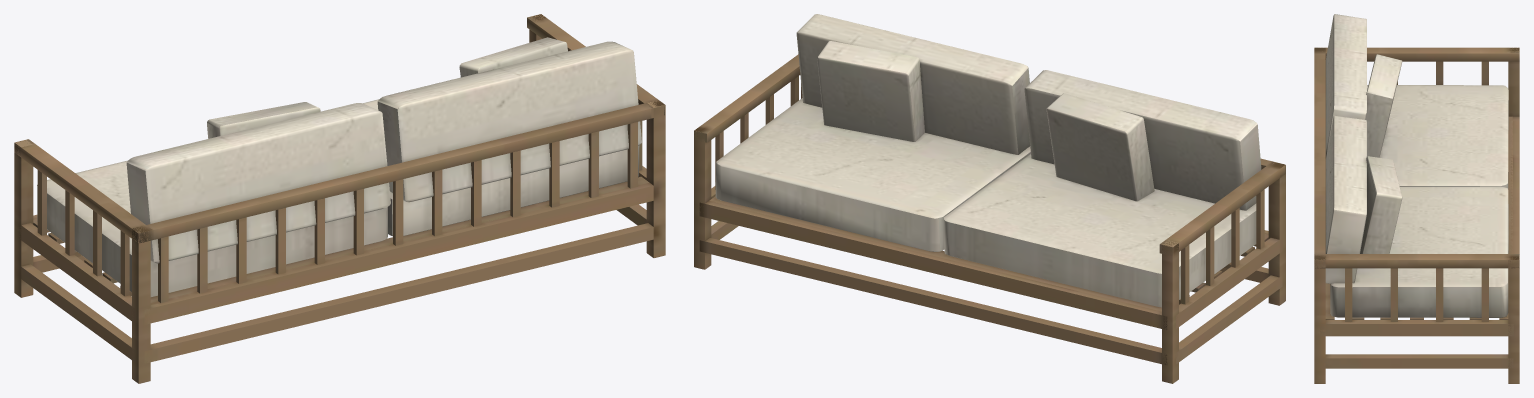
Rendered from lounge_sofa.glb.
3 views of the same model, side by side, from view 1: azimuth 30°, elevation 25°; view 2: azimuth 150°, elevation 25°; view 3: azimuth 270°, elevation 25° (orthographic). The views are drawn at different scales.
Visible parts, largest first — view 1: lounge_sofa; view 2: lounge_sofa; view 3: lounge_sofa.
Part boxes in pixels (x1,y1,x2,y2): lounge_sofa: (14,14,665,383); lounge_sofa: (694,14,1285,383); lounge_sofa: (1314,14,1519,383).
Size of the model in its own units: 2.2 by 0.8095 by 0.9.
Materials: 1 (1 with a texture image).
